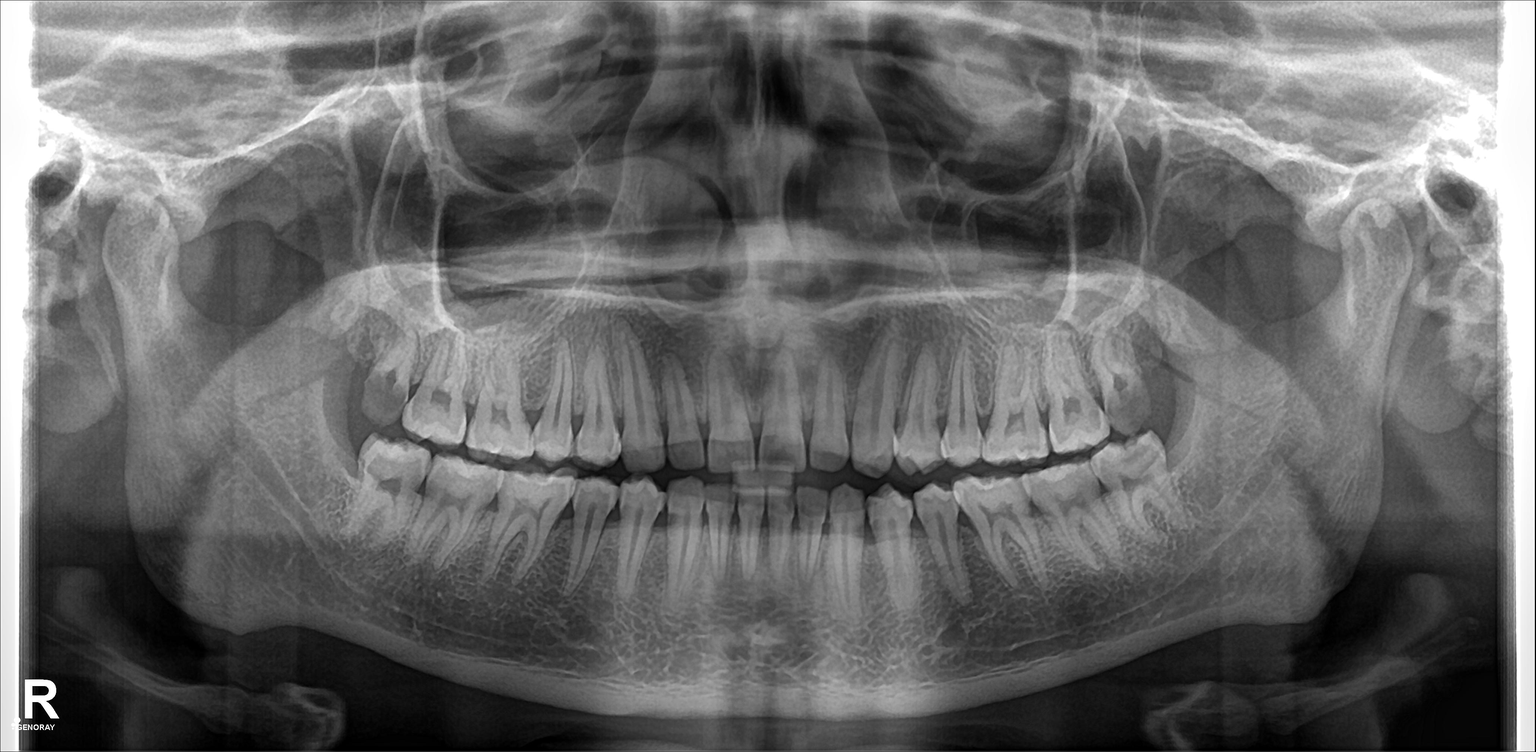Dental Caries: (1114, 456, 1159, 496), (1108, 391, 1149, 434), (371, 372, 407, 420)
